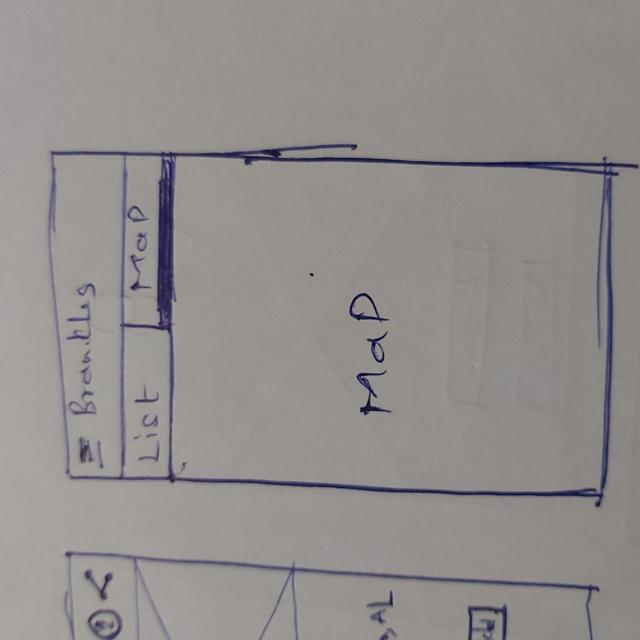AppBar: (51, 150, 125, 483)
DrawerToggleButton: (75, 436, 105, 466)
MainLayout: (38, 140, 614, 510)
Map: (177, 155, 597, 491)
Tab: (121, 149, 177, 483)
TabItem: (122, 153, 176, 330), (122, 326, 174, 480)
TextView: (72, 277, 103, 423)
